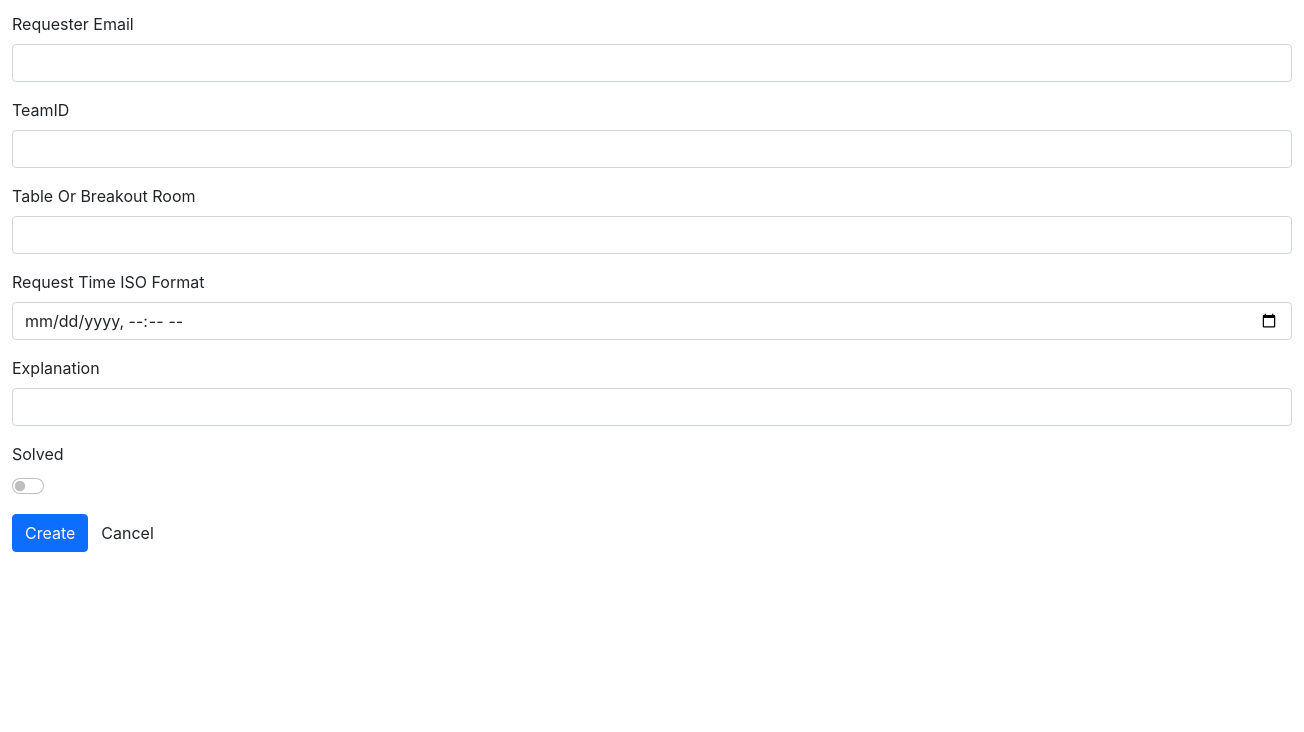
Test case: HelpRequestForm tests › correct error messsages on missing input
The width and height of the screenshot is (1304, 732).
Click the button "Create" at (50, 533), box top-left (12, 514), bottom-right (88, 552)
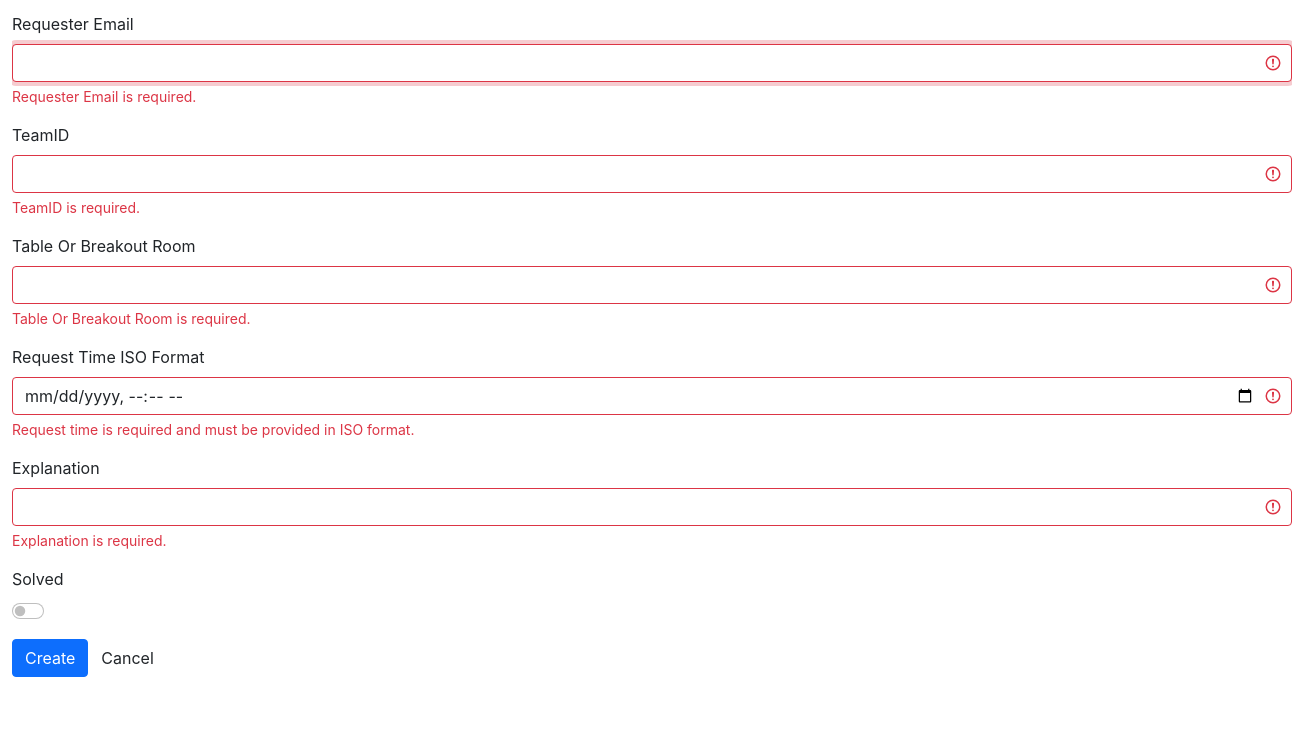
Check: the text "Requester Email is required." is shown, box top-left (12, 88), bottom-right (196, 105)
Check: the text "TeamID is required." is shown, box top-left (12, 199), bottom-right (140, 216)
Check: the text "Table Or Breakout Room is required." is shown, box top-left (12, 310), bottom-right (250, 327)
